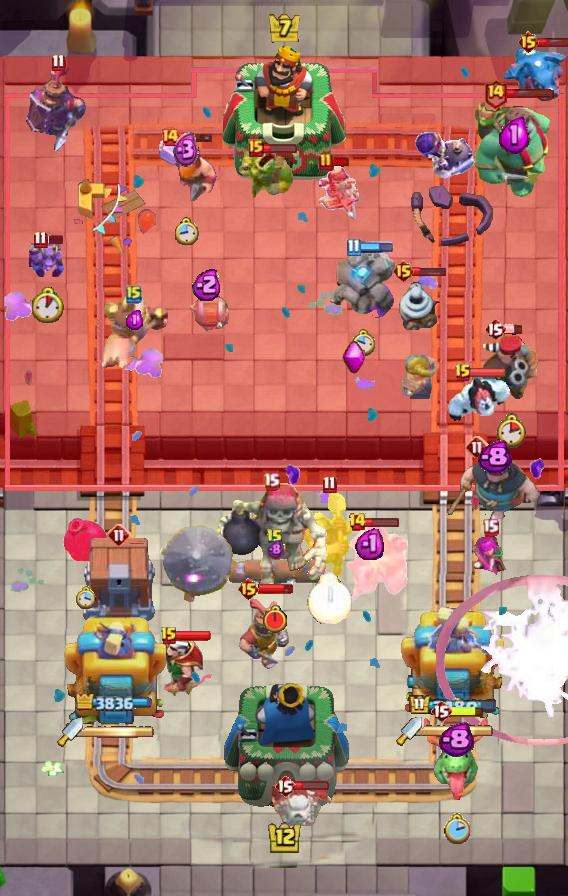baby-dragon: (63, 515, 109, 560)
bandit: (302, 489, 356, 577)
bar: (399, 607, 507, 731), (62, 611, 166, 731)
barbarian-evolution: (436, 574, 568, 746)
bomb: (80, 538, 158, 624)
cannon: (469, 533, 511, 581)
cannoneer-tower: (329, 521, 409, 607)
earthquake: (234, 590, 292, 672)
electro-giant: (212, 482, 330, 594)
electro-spirit: (438, 722, 474, 758), (476, 441, 511, 476), (499, 115, 530, 154), (193, 267, 223, 301), (355, 526, 384, 560), (173, 132, 199, 168), (267, 539, 284, 560), (125, 310, 142, 330)
electro-wizard: (421, 714, 491, 800)
elixir: (308, 572, 352, 624), (32, 287, 64, 323), (496, 413, 526, 448), (443, 812, 469, 843), (262, 605, 288, 634), (174, 217, 199, 245), (351, 329, 375, 357), (75, 585, 96, 609)
elixir-golem-big: (25, 61, 91, 153)
emote: (505, 89, 555, 100), (449, 706, 485, 719), (178, 131, 214, 143), (358, 241, 394, 253), (258, 583, 294, 595), (176, 630, 212, 642), (412, 265, 447, 277), (262, 143, 298, 154), (470, 367, 506, 378), (364, 516, 400, 527), (294, 780, 330, 791), (537, 36, 567, 48), (333, 156, 352, 168), (45, 234, 65, 245), (505, 325, 524, 336)
flying-machine: (236, 148, 294, 202)
freeze: (99, 293, 169, 373)
goblin-ball: (413, 128, 475, 180)
goblin-drill: (392, 276, 440, 330)
goblin-giant: (402, 353, 438, 399)
graveyard: (500, 44, 568, 104)
king-tower: (219, 678, 349, 826), (223, 43, 345, 181)
king-tower-bar: (422, 724, 494, 738), (83, 725, 155, 739)
knight: (182, 292, 232, 336)
lava-hound: (470, 91, 558, 201)
mighty-miner: (154, 133, 218, 203)
mini-pekka: (268, 782, 334, 828)
minion: (225, 551, 325, 589)
phoenix-small: (480, 332, 542, 400)
rage: (444, 373, 514, 425)
royal-delivery: (29, 242, 67, 280)
royal-hog: (446, 447, 542, 523)
selected: (408, 694, 498, 718), (75, 693, 153, 710)
skeleton-dragon: (316, 165, 360, 225)
skeleton-king: (146, 633, 218, 699)
skeleton-king-skill: (342, 341, 366, 375)
text: (483, 79, 508, 110), (465, 435, 489, 459), (107, 523, 131, 547), (516, 30, 539, 54), (393, 259, 416, 283), (237, 577, 260, 601), (484, 317, 506, 341), (430, 699, 452, 723), (274, 774, 296, 798), (160, 127, 180, 147), (349, 512, 368, 532), (454, 363, 472, 383), (266, 528, 284, 548), (160, 626, 178, 646), (481, 519, 499, 538), (263, 472, 280, 491), (318, 152, 334, 172), (126, 284, 142, 304), (248, 139, 264, 157), (51, 52, 66, 71), (346, 239, 361, 258), (33, 231, 48, 249), (323, 475, 337, 494)
valkyrie-evolution: (328, 250, 398, 318)
x-bow: (159, 524, 239, 604)
